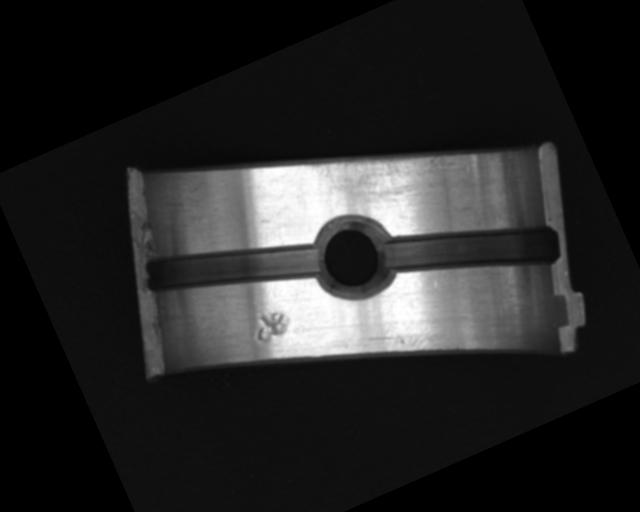bruise: (244, 302, 295, 348)
gap: (373, 176, 567, 326), (139, 199, 323, 338)
hole: (298, 203, 406, 311)
scratch: (295, 105, 460, 227)
